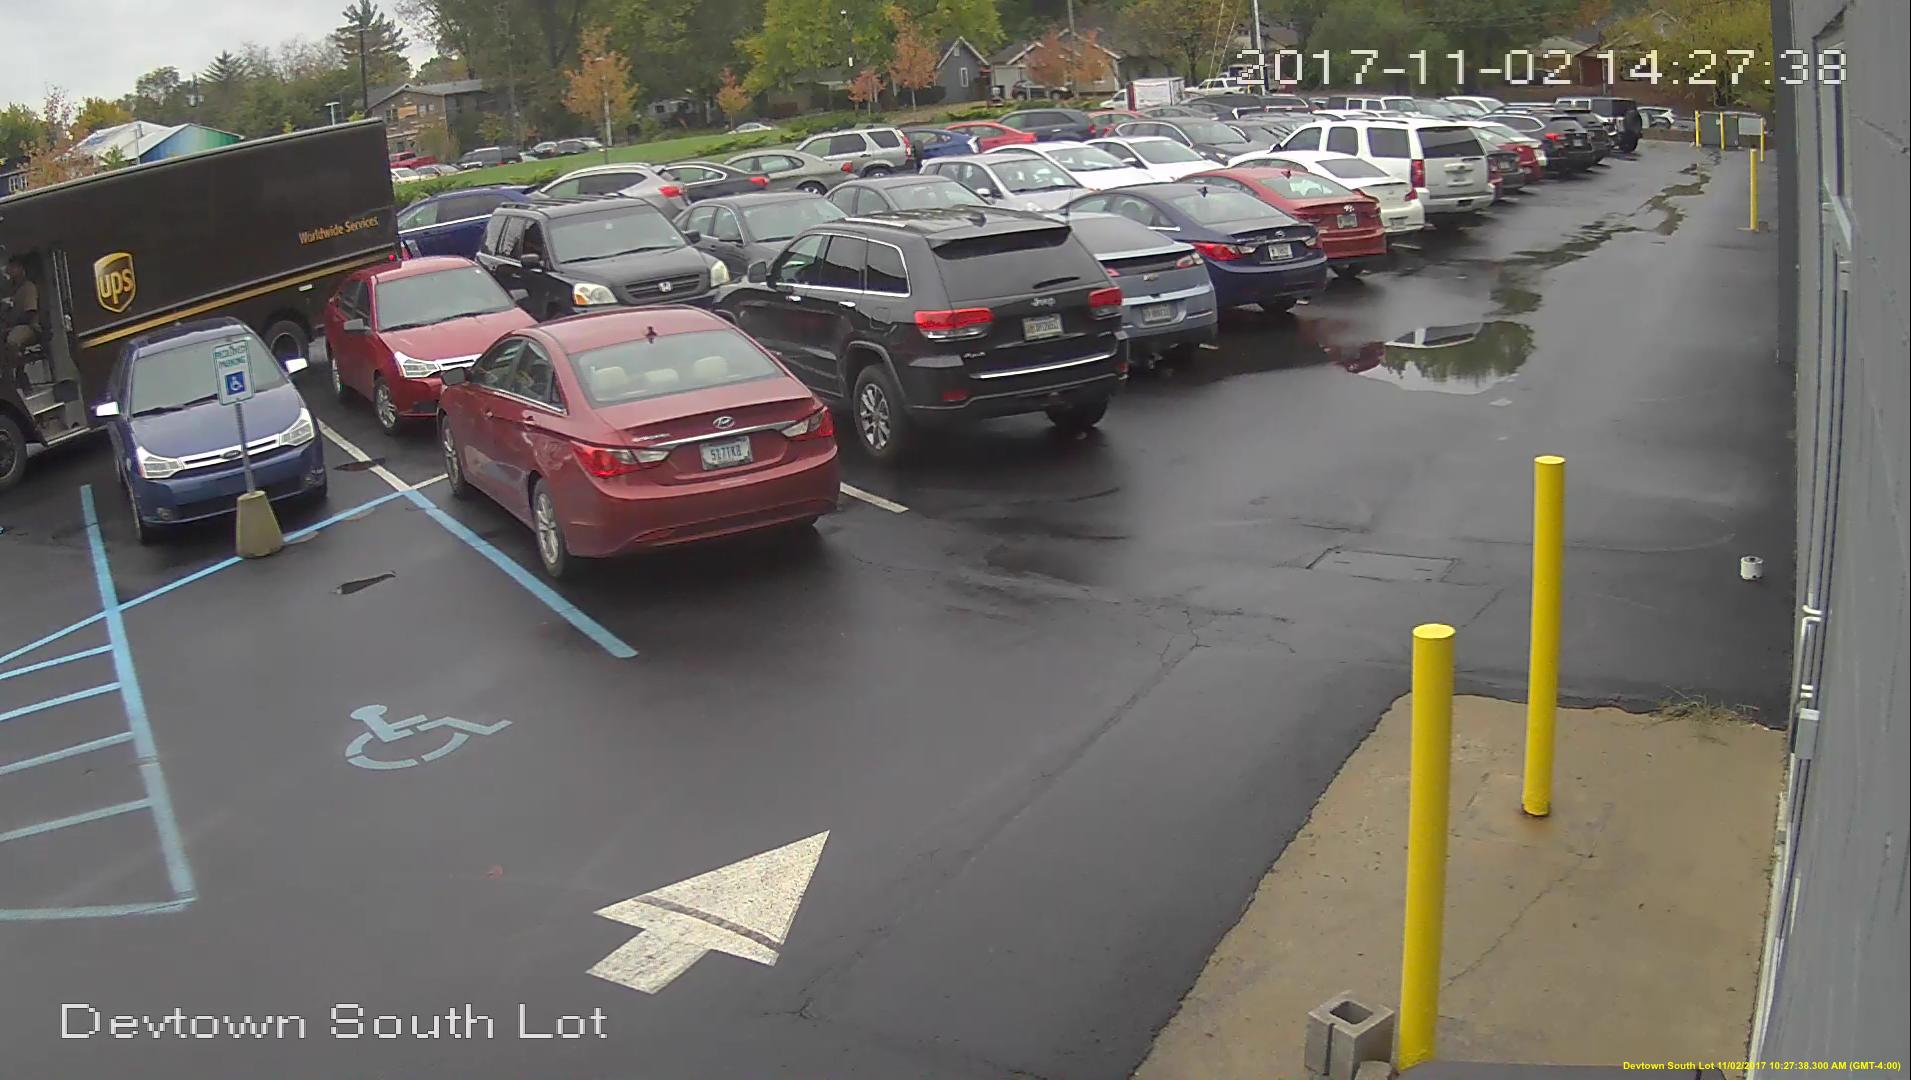ups_truck: (3, 154, 399, 423)
